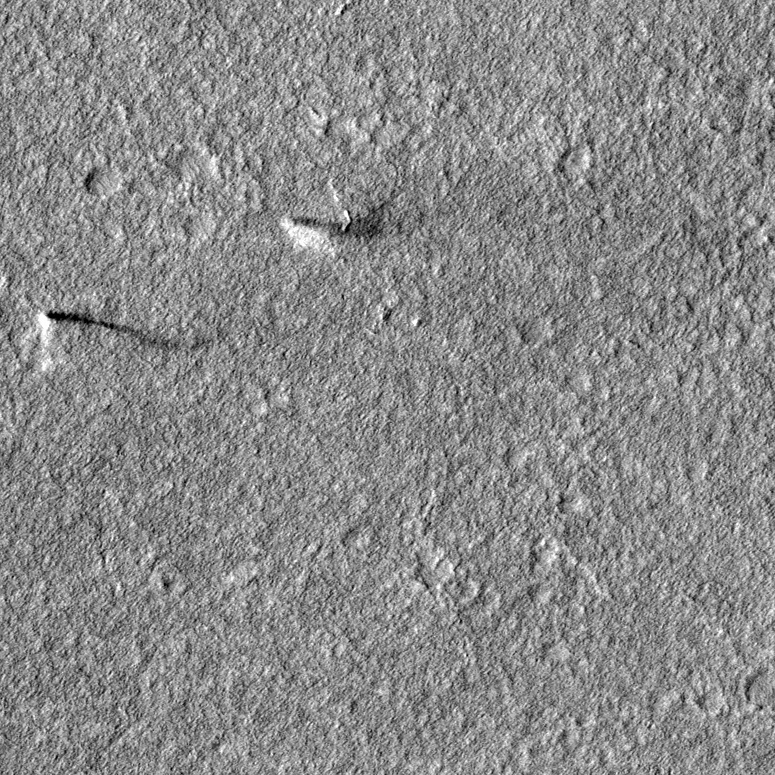dust_devil: (35, 311, 176, 374), (278, 203, 387, 256)
